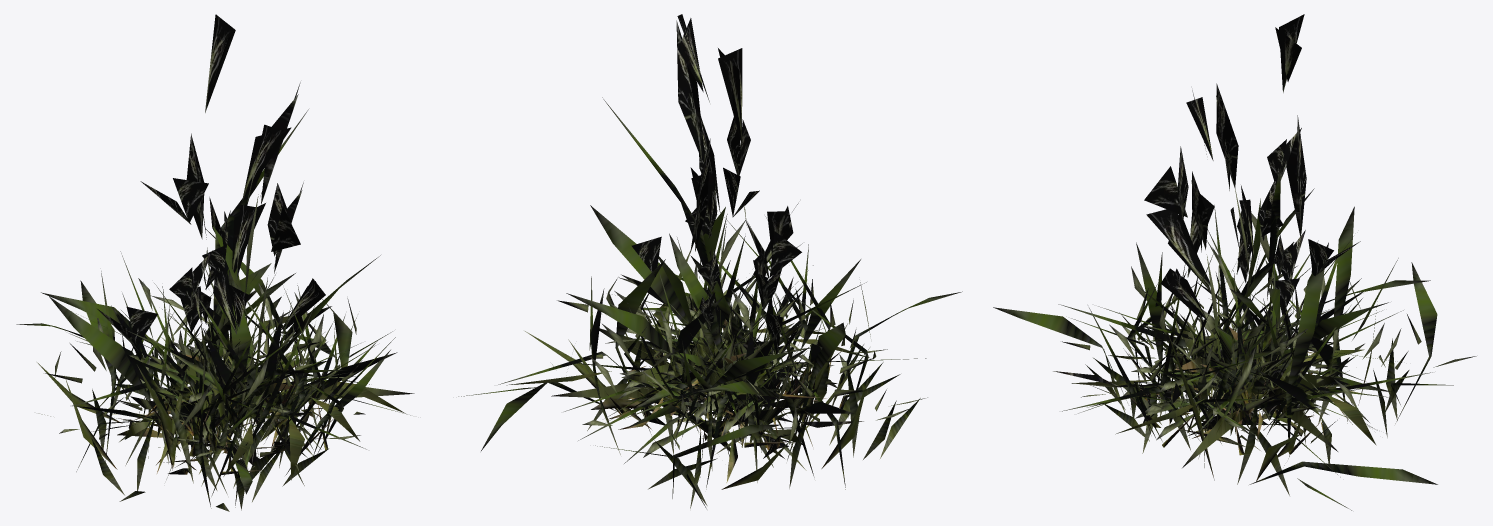
File: grass_medium_01.glb
3 renders of one model, left to right at view 1: azimuth 30°, elevation 25°; view 2: azimuth 150°, elevation 25°; view 3: azimuth 270°, elevation 25°, orthographic. The views are drawn at different scales.
Parts seen in each view (by area): view 1: grass_medium_01_small_a_LOD0; view 2: grass_medium_01_small_a_LOD0; view 3: grass_medium_01_small_a_LOD0.
Part boxes in pixels (bbox=[...]): grass_medium_01_small_a_LOD0: bbox=[16, 14, 414, 511]; grass_medium_01_small_a_LOD0: bbox=[458, 14, 962, 508]; grass_medium_01_small_a_LOD0: bbox=[993, 14, 1476, 510].
Size of the model in its own units: 0.3099 by 0.3192 by 0.3224.
Materials: 1 (1 with a texture image).
